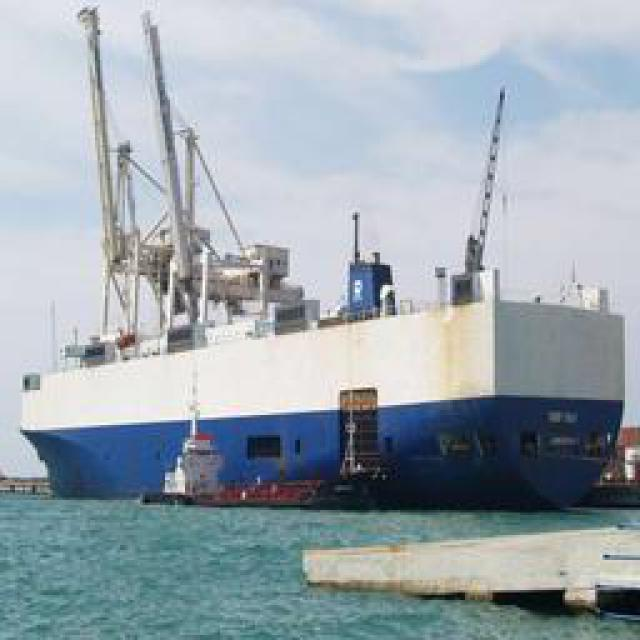Ship: (14, 5, 629, 503)
